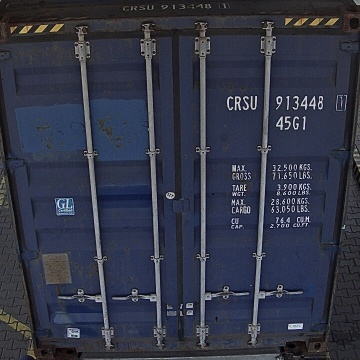serial_id: (227, 95, 346, 110)
